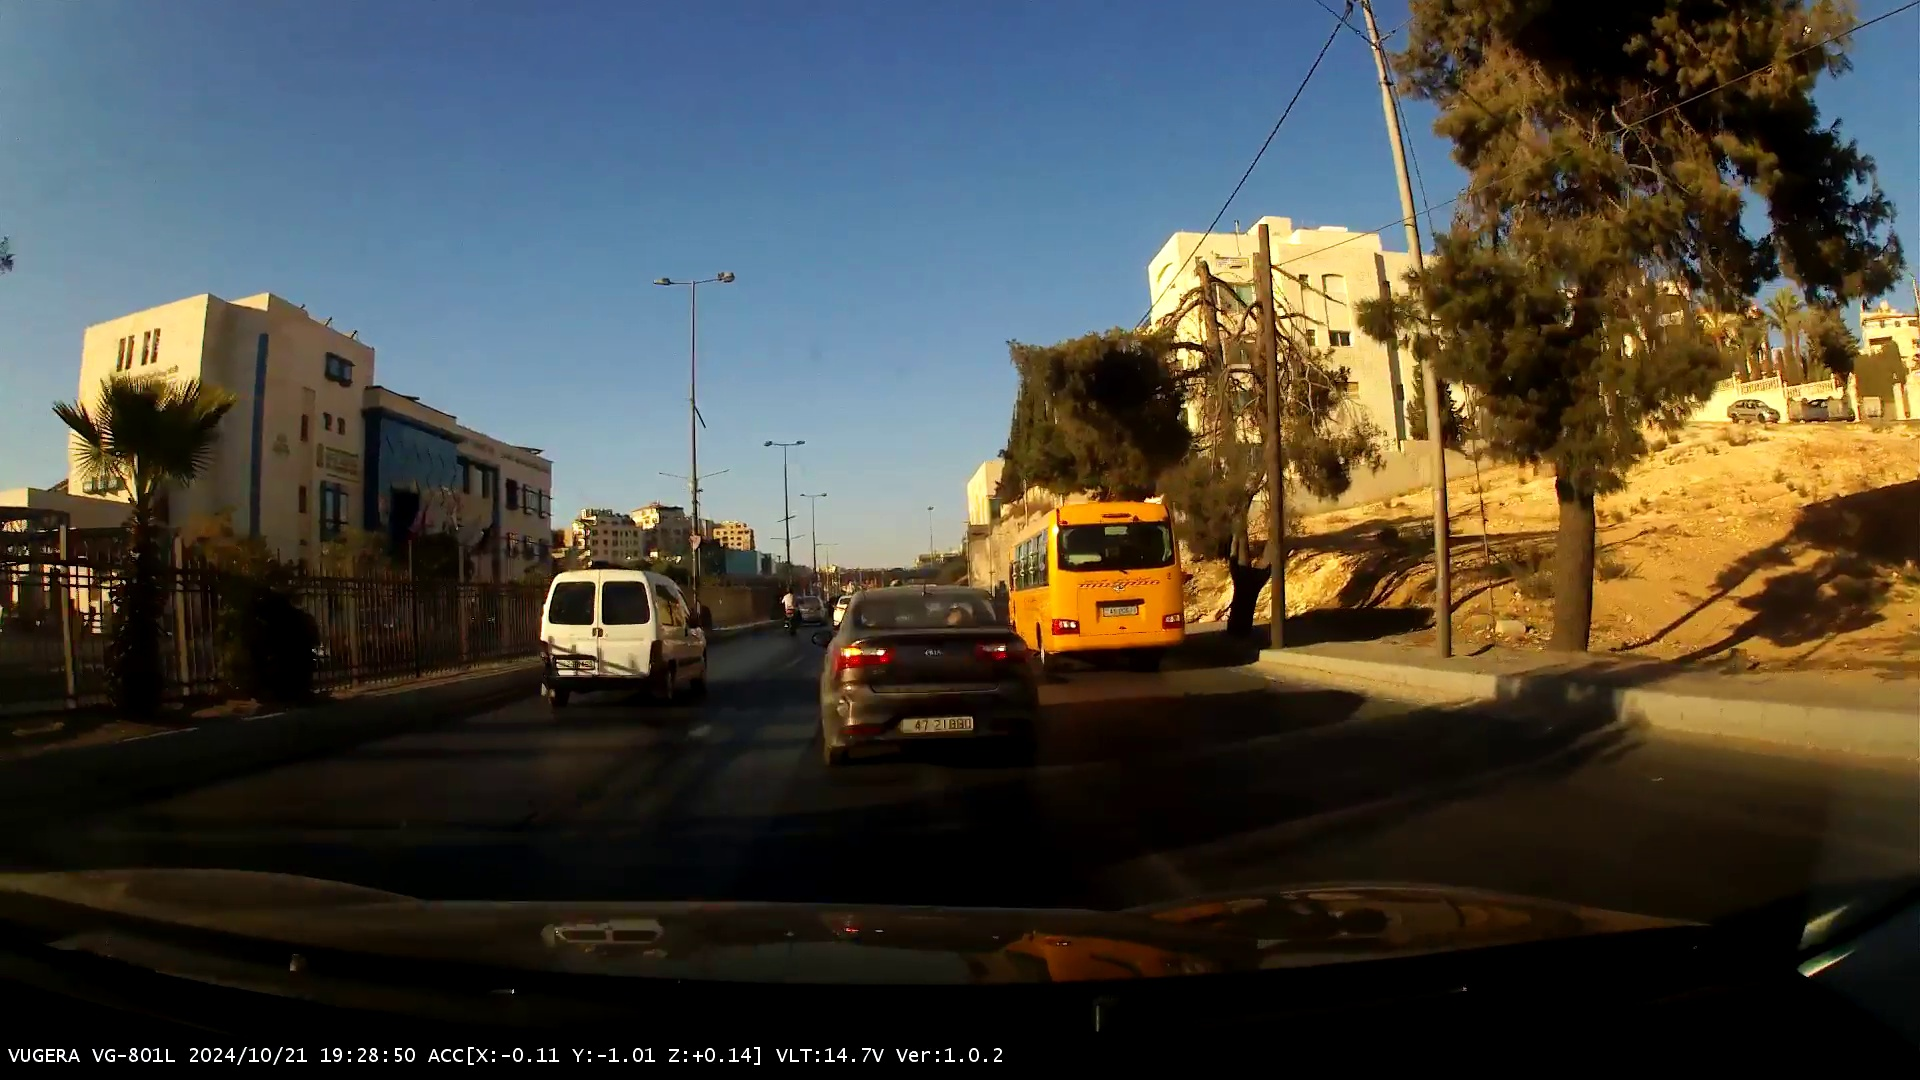vehicle: (820, 585, 1038, 762), (1009, 501, 1187, 665), (538, 568, 708, 709), (1727, 397, 1782, 423), (793, 596, 825, 626), (781, 589, 800, 637), (833, 596, 855, 626)
